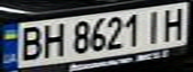1: (121, 11, 145, 47)
2: (106, 12, 127, 51)
6: (87, 16, 112, 53)
8: (69, 18, 93, 55)
B: (15, 24, 45, 62)
H: (36, 20, 69, 58), (157, 3, 190, 41)
I: (142, 7, 169, 43)
